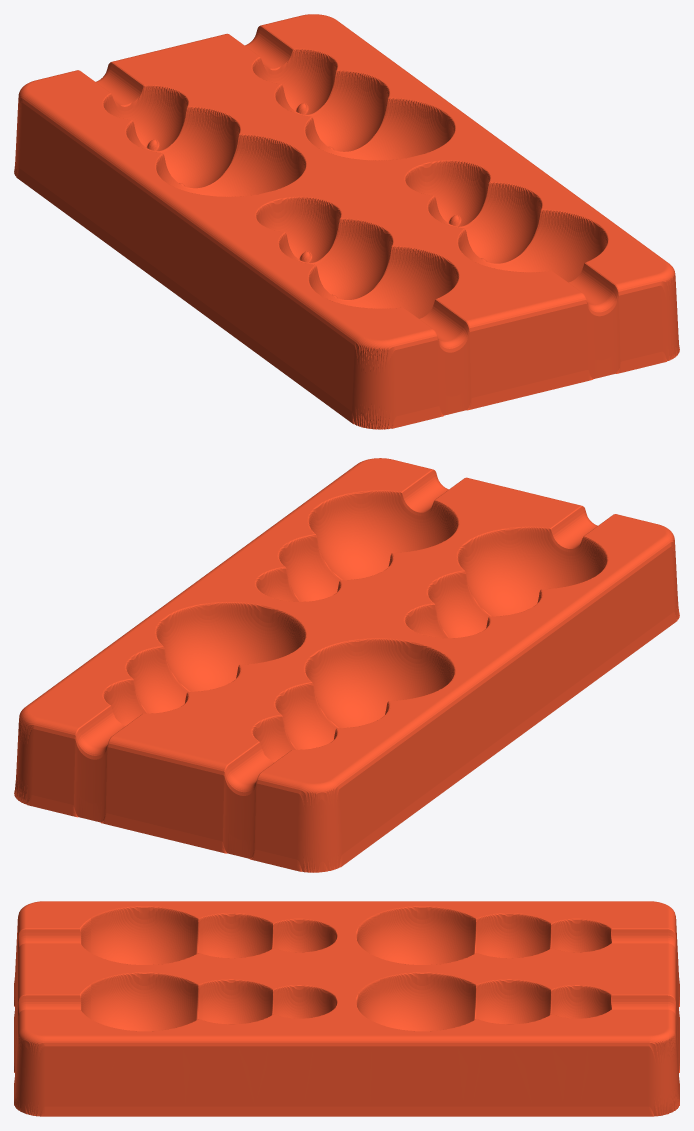
The model's file is mold.glb.
3 views of the same model, one above another, from view 1: azimuth 30°, elevation 25°; view 2: azimuth 150°, elevation 25°; view 3: azimuth 270°, elevation 25° (orthographic). The views are drawn at different scales.
Visible parts, largest first — view 1: geometry_0; view 2: geometry_0; view 3: geometry_0.
Boxes of the visible parts, left/top/right/bottom form: geometry_0: left=14, top=14, right=679, bottom=429; geometry_0: left=14, top=458, right=679, bottom=872; geometry_0: left=14, top=901, right=679, bottom=1116.
Bounding box in the file's own units: 0.0996 × 0.0245 × 0.1945.
